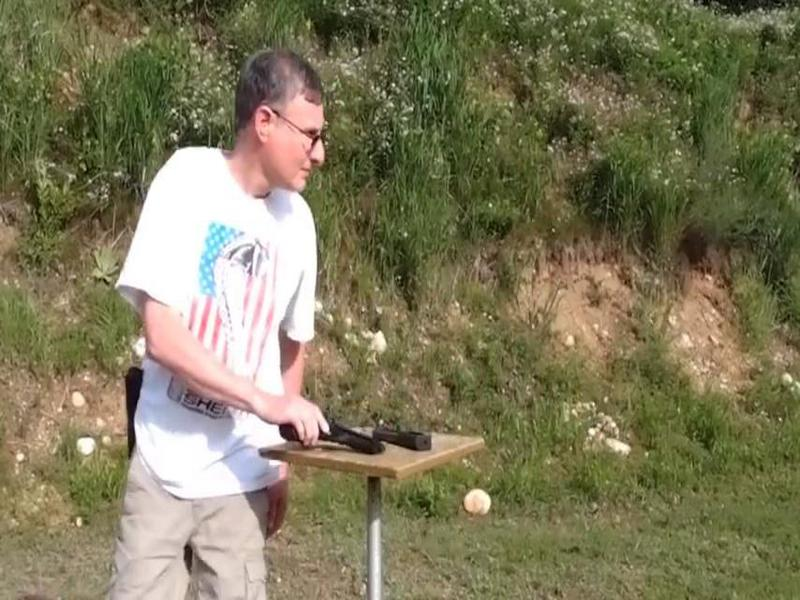Pistola: (252, 394, 388, 484)
